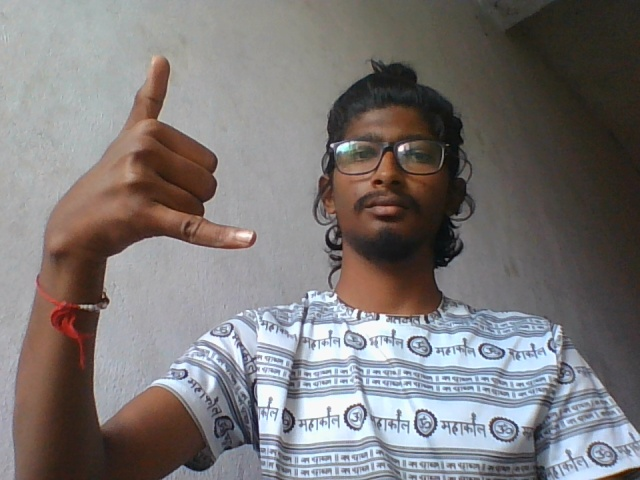Yes: (30, 50, 266, 276)
